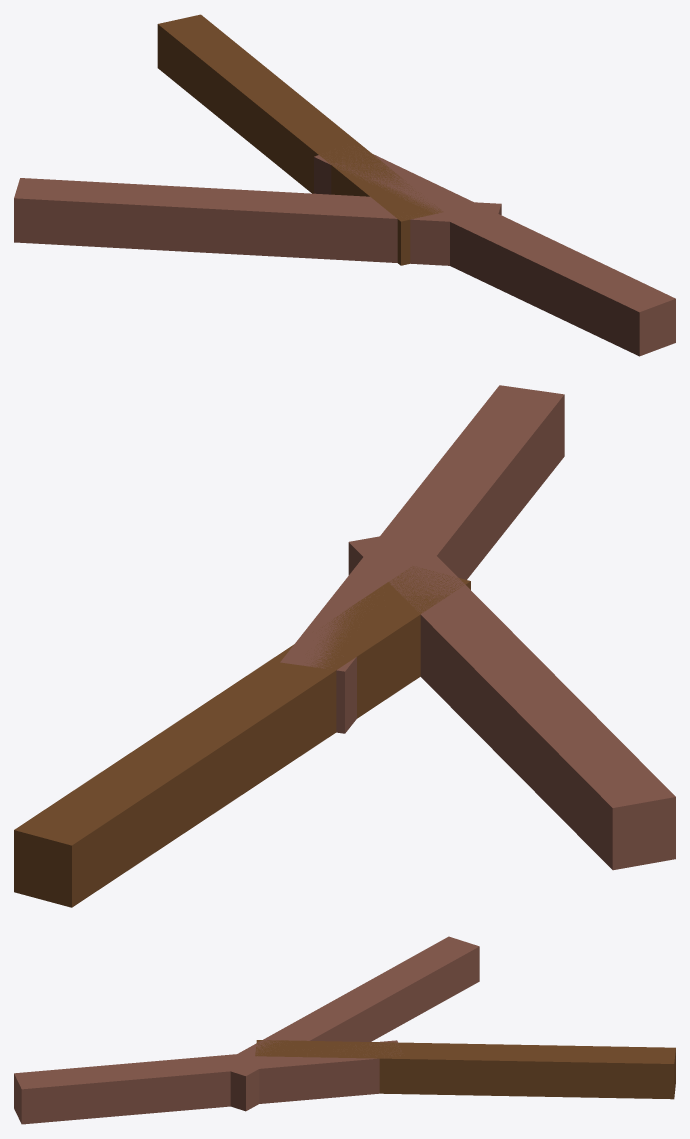
File: twig-bits.glb
3 views of the same model, one above another, from view 1: azimuth 30°, elevation 25°; view 2: azimuth 150°, elevation 25°; view 3: azimuth 270°, elevation 25° (orthographic). The views are drawn at different scales.
Visible parts, largest first — view 1: twig-bits_body; view 2: twig-bits_body; view 3: twig-bits_body.
Boxes of the visible parts, box(x1,y1,x2,y2) form: twig-bits_body: box(14, 14, 675, 356); twig-bits_body: box(14, 385, 675, 907); twig-bits_body: box(14, 936, 675, 1124).
Size of the model in its own units: 0.2798 by 0.03 by 0.512.
